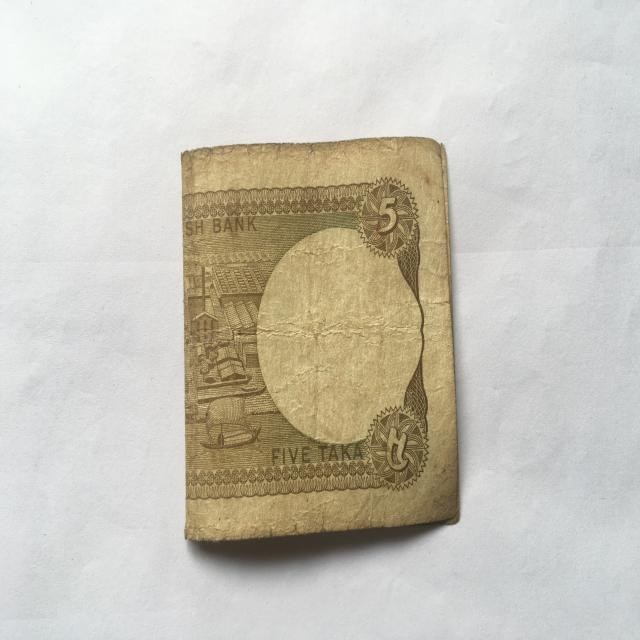Taka: (176, 141, 463, 511)
